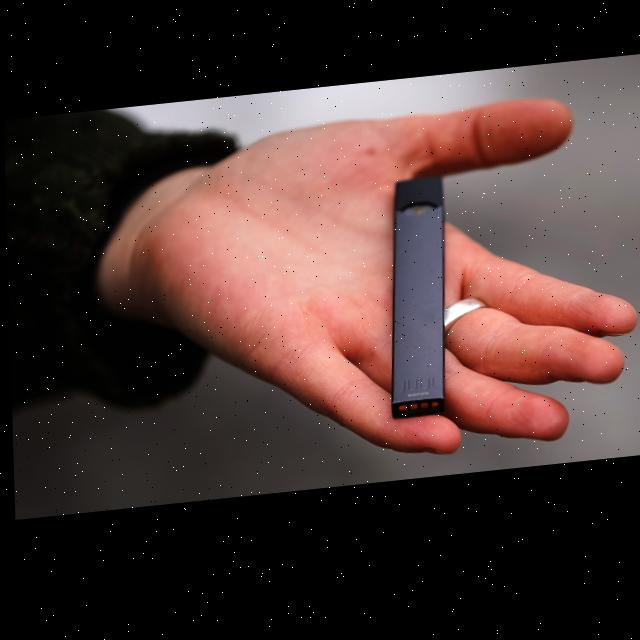vape: (383, 185, 449, 429)
